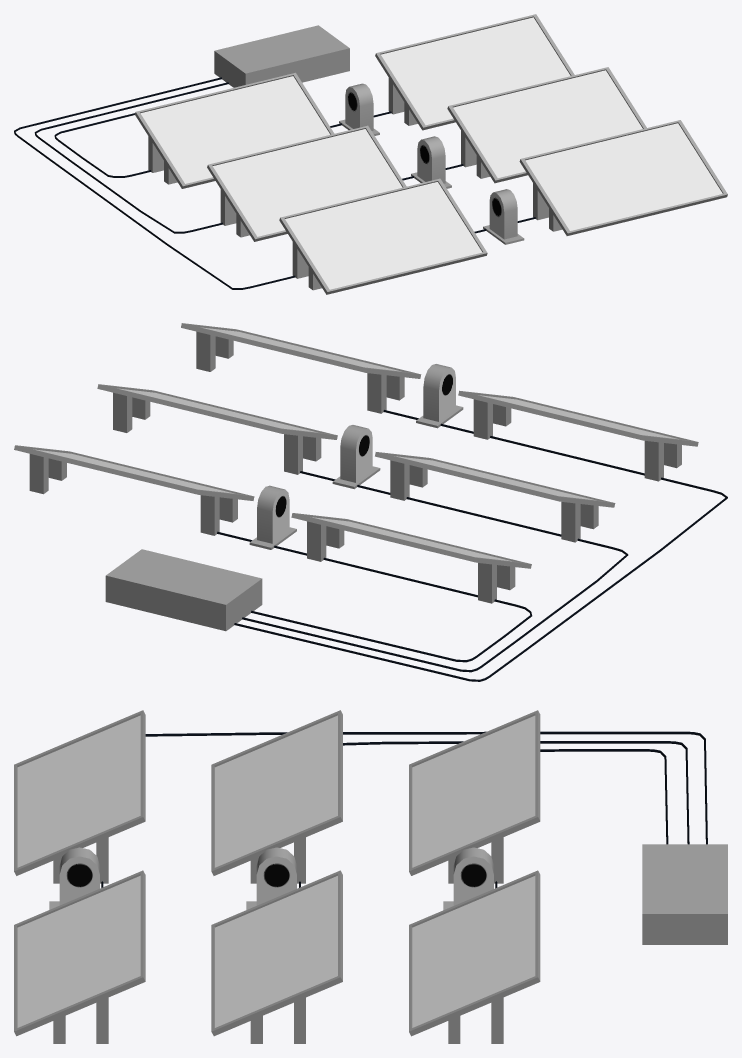
File: solarpanels.fbx
3 renders of one model, top to bottom at view 1: azimuth 30°, elevation 25°; view 2: azimuth 150°, elevation 25°; view 3: azimuth 270°, elevation 25°, orthographic. The views are drawn at different scales.
Visible parts, largest first — view 1: solarpanels; view 2: solarpanels; view 3: solarpanels.
Boxes of the visible parts, x1,y1,x2,y2 form: solarpanels: [14, 14, 727, 294]; solarpanels: [14, 323, 727, 681]; solarpanels: [14, 710, 727, 1043].
Size of the model in its own units: 10.3 by 1.03 by 10.02.
